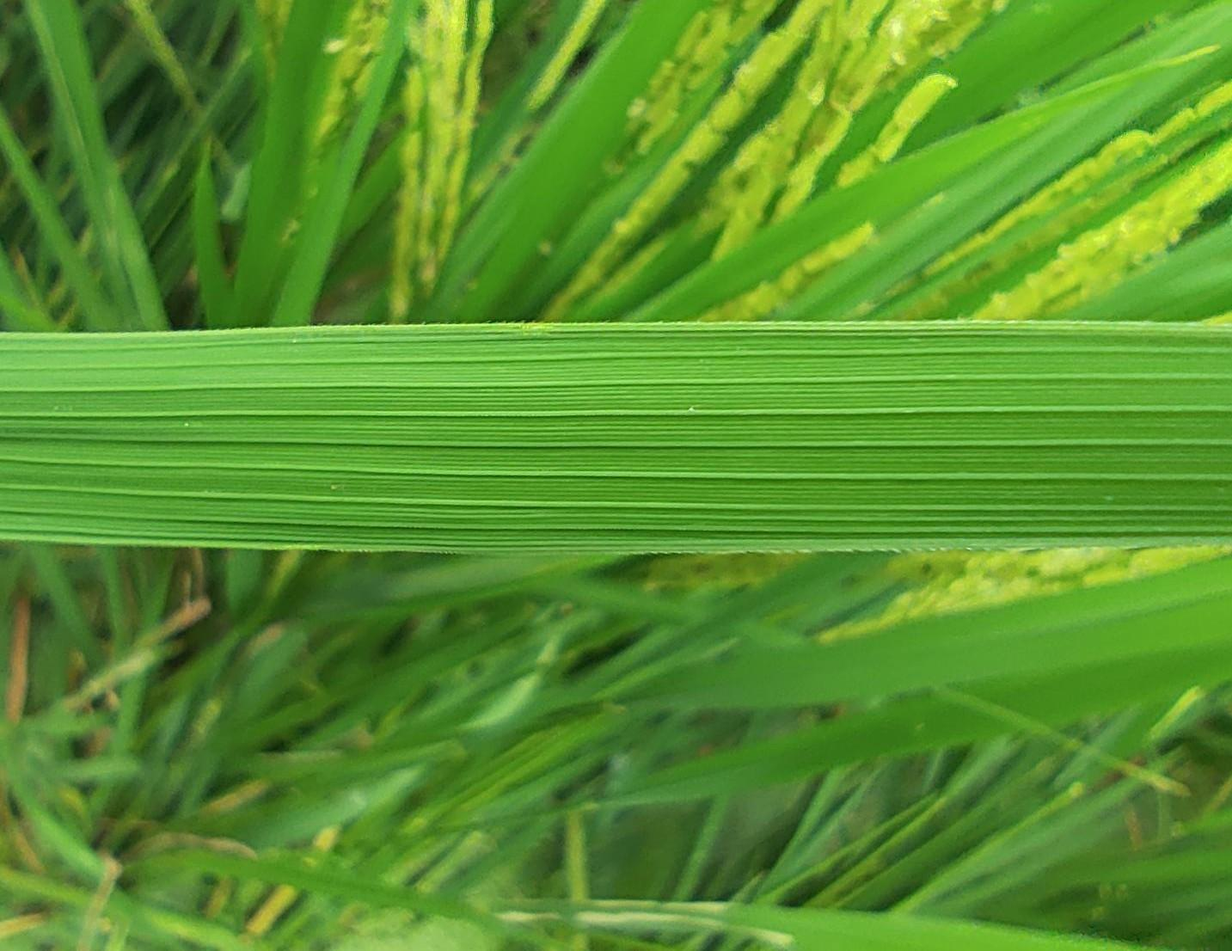Healthy: (0, 322, 1231, 554)
